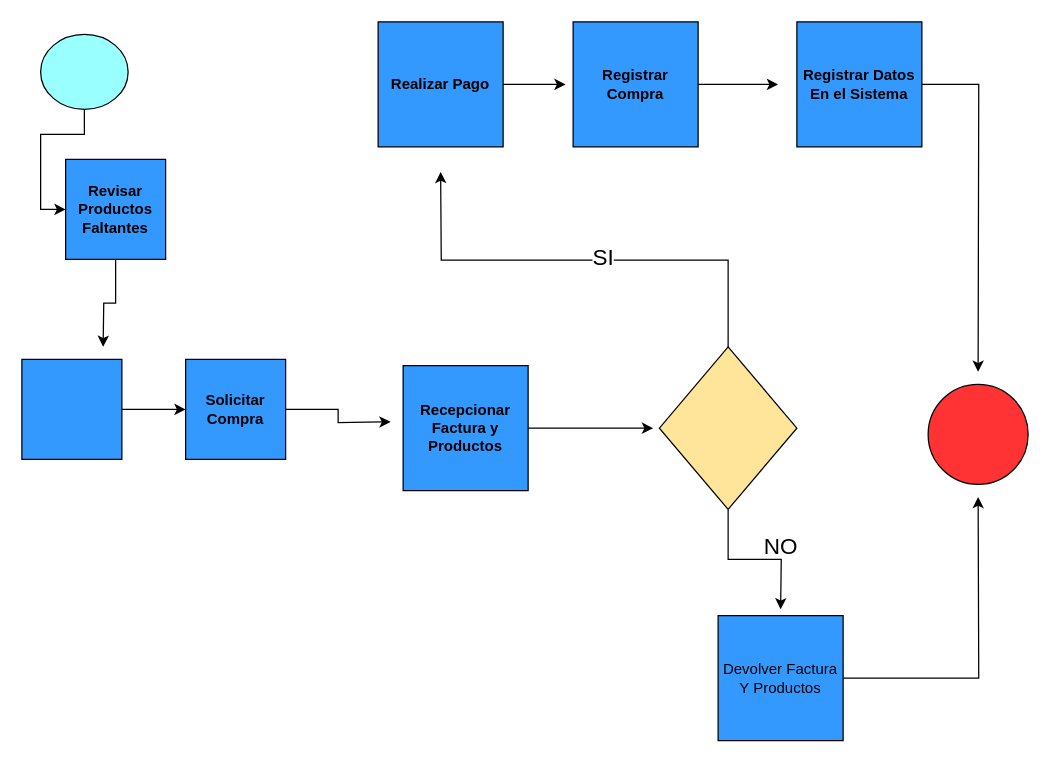
This 1050x763 diagram has some shape labels left out. The shapes that lost their labels are listed below. From the top down, each one's centre as x and y in pixels, then its label:
[83,71]: Depositero
[71,408]: Ordenar Compra
[727,427]: Verificar Si el Pedido Esta completo
[977,433]: Fin
